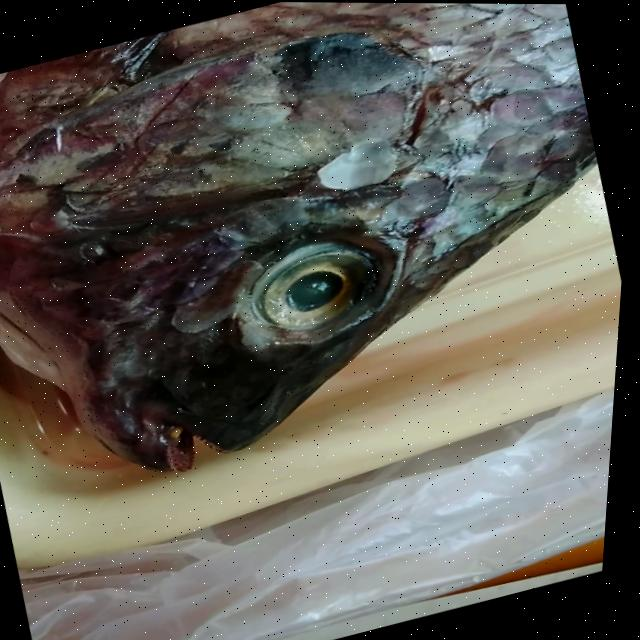Non-Fresh: (0, 0, 585, 284), (214, 212, 414, 363)
